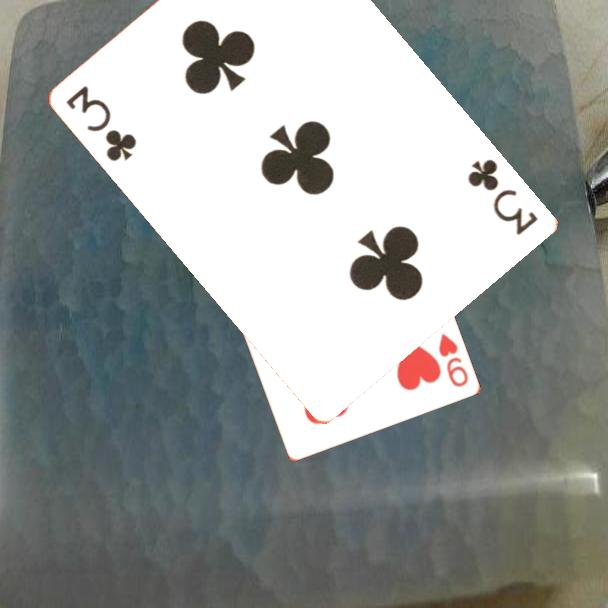c03: (63, 81, 141, 165), (464, 155, 542, 238)
h09: (435, 329, 471, 390)
